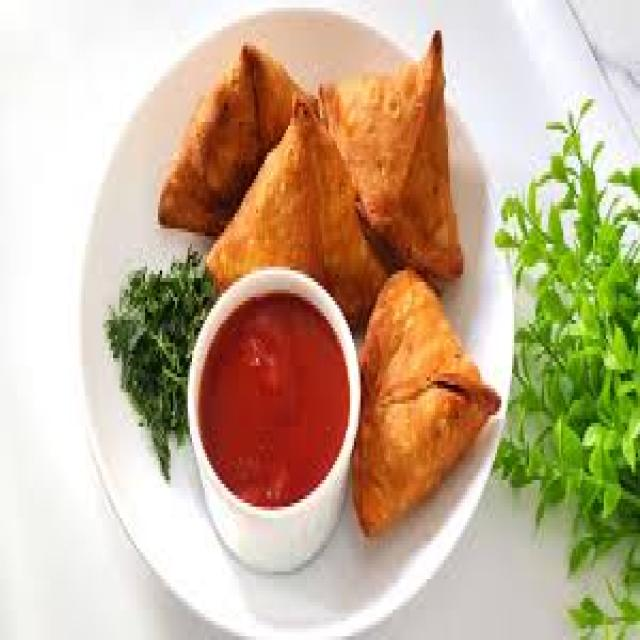SAMOSA: (204, 96, 390, 324), (355, 264, 503, 540), (322, 28, 463, 280), (157, 49, 325, 236)
